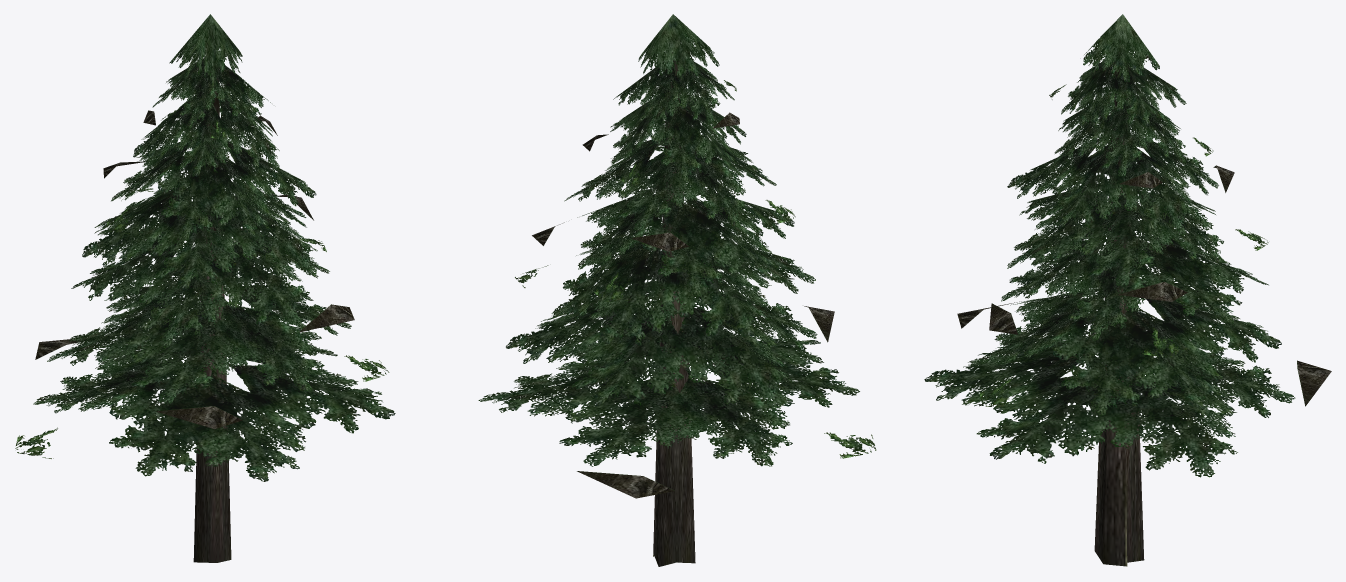
The model's file is flora-trees-pine.glb.
3 renders of one model, left to right at view 1: azimuth 30°, elevation 25°; view 2: azimuth 150°, elevation 25°; view 3: azimuth 270°, elevation 25°, orthographic.
Visible parts, largest first — view 1: Object01; view 2: Object01; view 3: Object01.
Part boxes in pixels (x1,y1,x2,y2): Object01: (15, 14, 395, 562); Object01: (478, 14, 876, 566); Object01: (924, 14, 1331, 566).
Bounding box in the file's own units: 6.63 × 9.79 × 6.95.
1 material, 1 textured.
